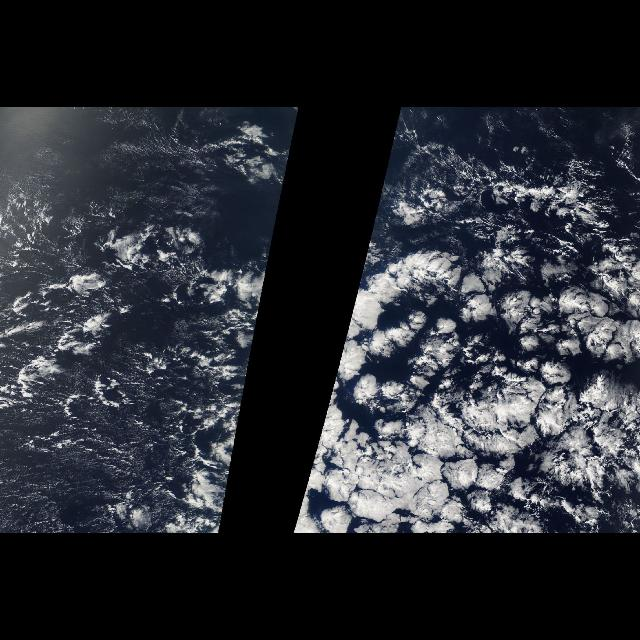Fish: (425, 356, 603, 452)
Flower: (298, 211, 640, 534)
Gravel: (12, 204, 226, 458)
Sugar: (24, 118, 214, 202)
